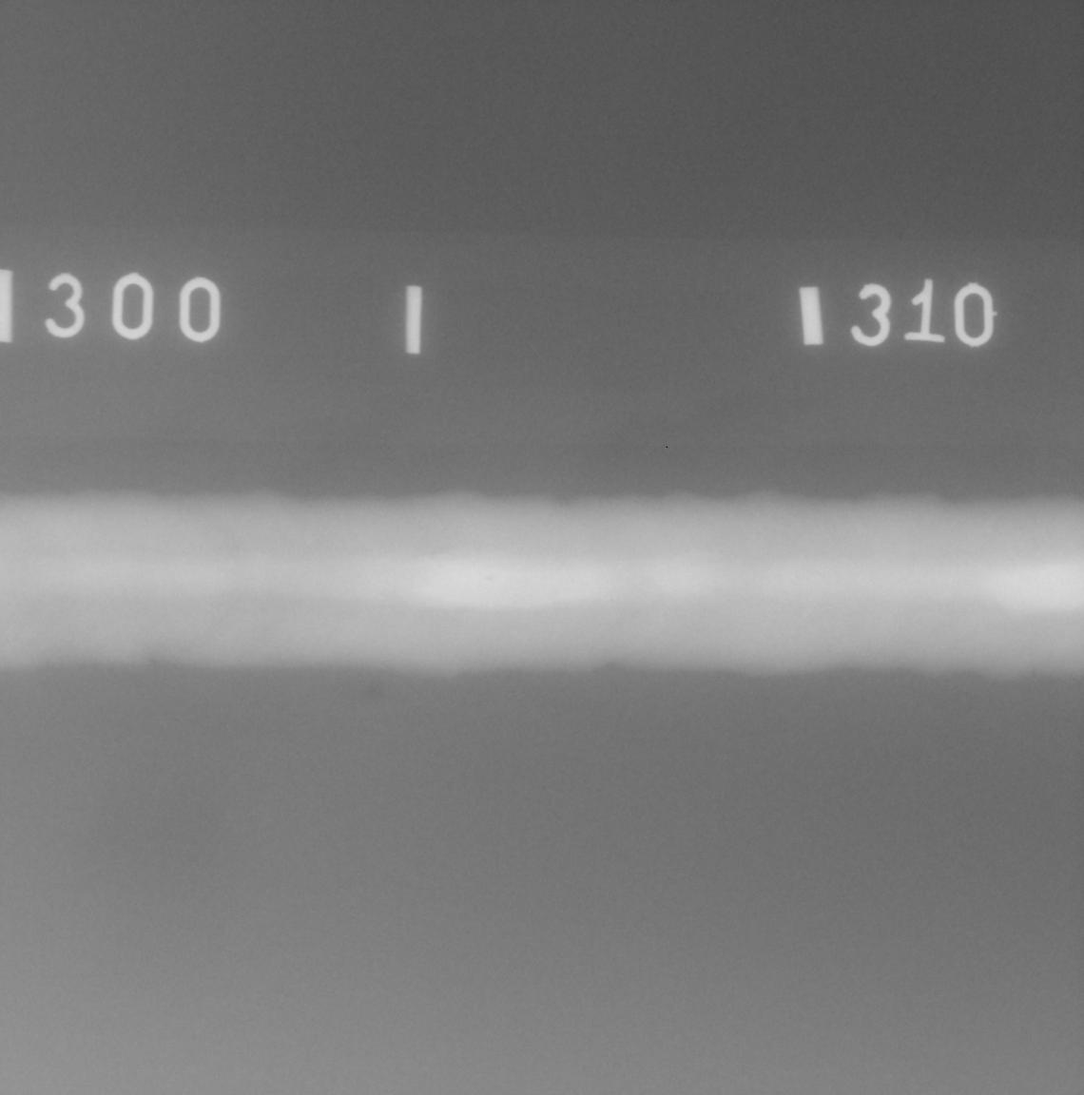Pore/Porosity: (484, 574, 497, 582)
